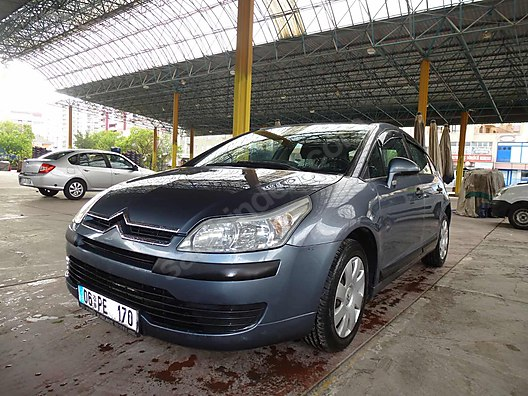citroen: (61, 120, 457, 361)
